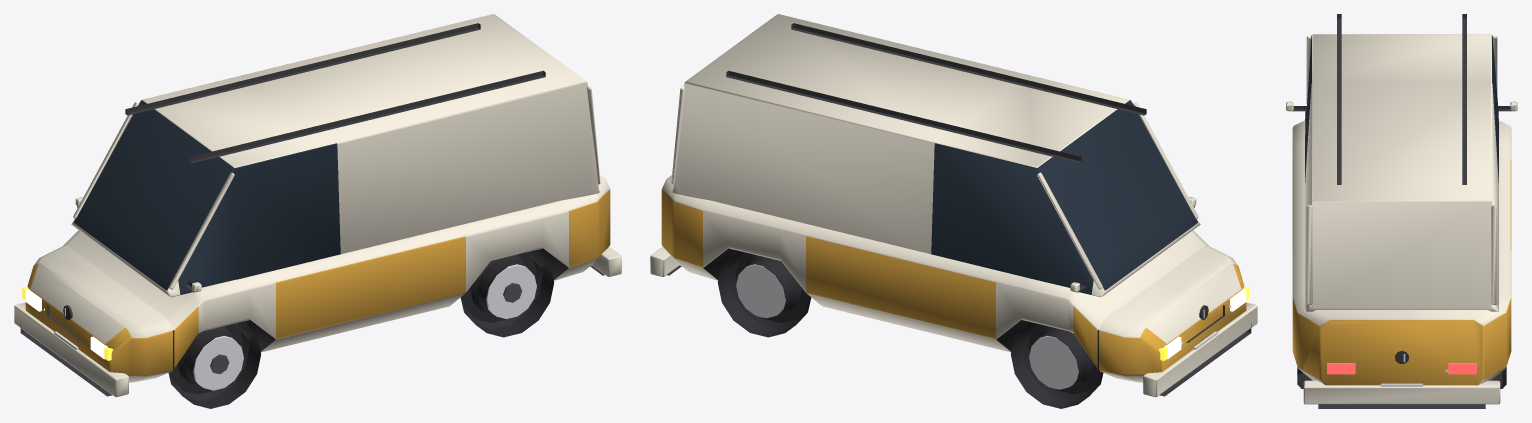
The model's file is mv_amber.glb.
The picture shows the model from 3 angles, left to right: view 1: azimuth 30°, elevation 25°; view 2: azimuth 150°, elevation 25°; view 3: azimuth 270°, elevation 25°; orthographic projection. The views are drawn at different scales.
Size of the model in its own units: 1.9 by 0.8466 by 0.7779.
